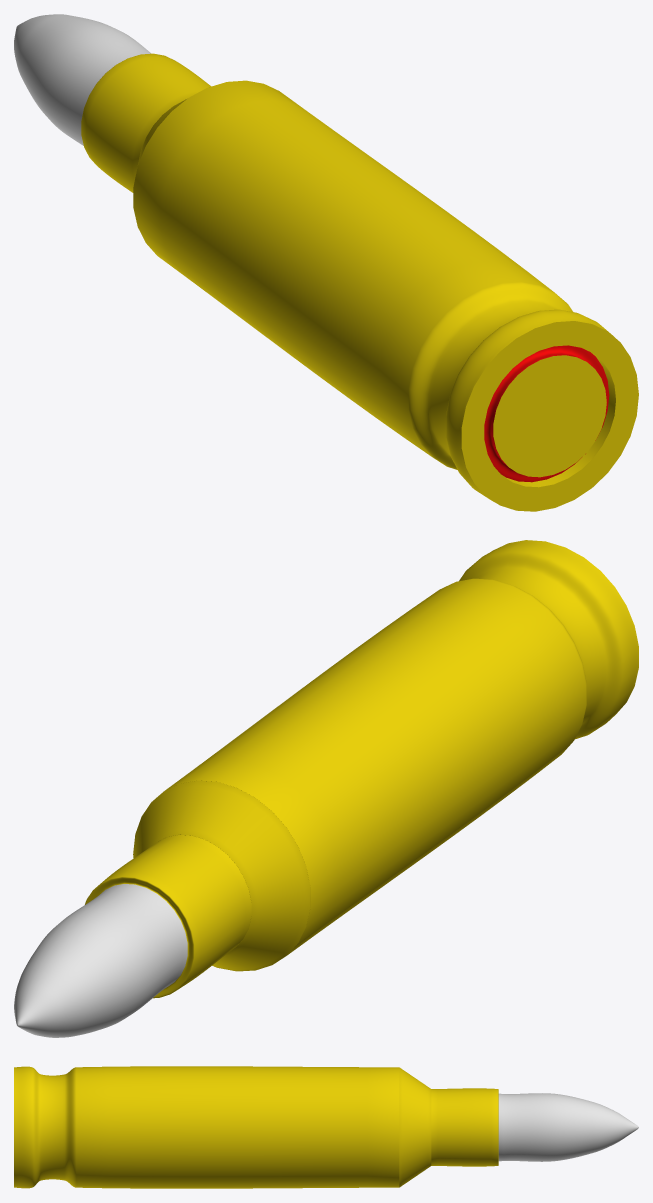
The picture shows the model from 3 angles, top to bottom: view 1: azimuth 30°, elevation 25°; view 2: azimuth 150°, elevation 25°; view 3: azimuth 270°, elevation 25°; orthographic projection. The views are drawn at different scales.
Parts seen in each view (by area): view 1: Loft_2, Cap_1, Cap_2, Loft_2_2, Loft, Loft_1; view 2: Loft_2, Loft_2_2; view 3: Loft_2, Loft_2_2.
Boxes of the visible parts, box(x1,y1,x2,y2) form: Loft_2: box(81, 53, 613, 501); Cap_1: box(461, 321, 638, 511); Cap_2: box(493, 355, 606, 477); Loft_2_2: box(14, 14, 150, 145); Loft: box(484, 345, 609, 482); Loft_1: box(501, 352, 615, 487); Loft_2: box(85, 540, 638, 998); Loft_2_2: box(14, 884, 187, 1037); Loft_2: box(14, 1066, 498, 1188); Loft_2_2: box(498, 1093, 638, 1161).
Bounding box in the file's own units: 40.55 × 40.61 × 207.
